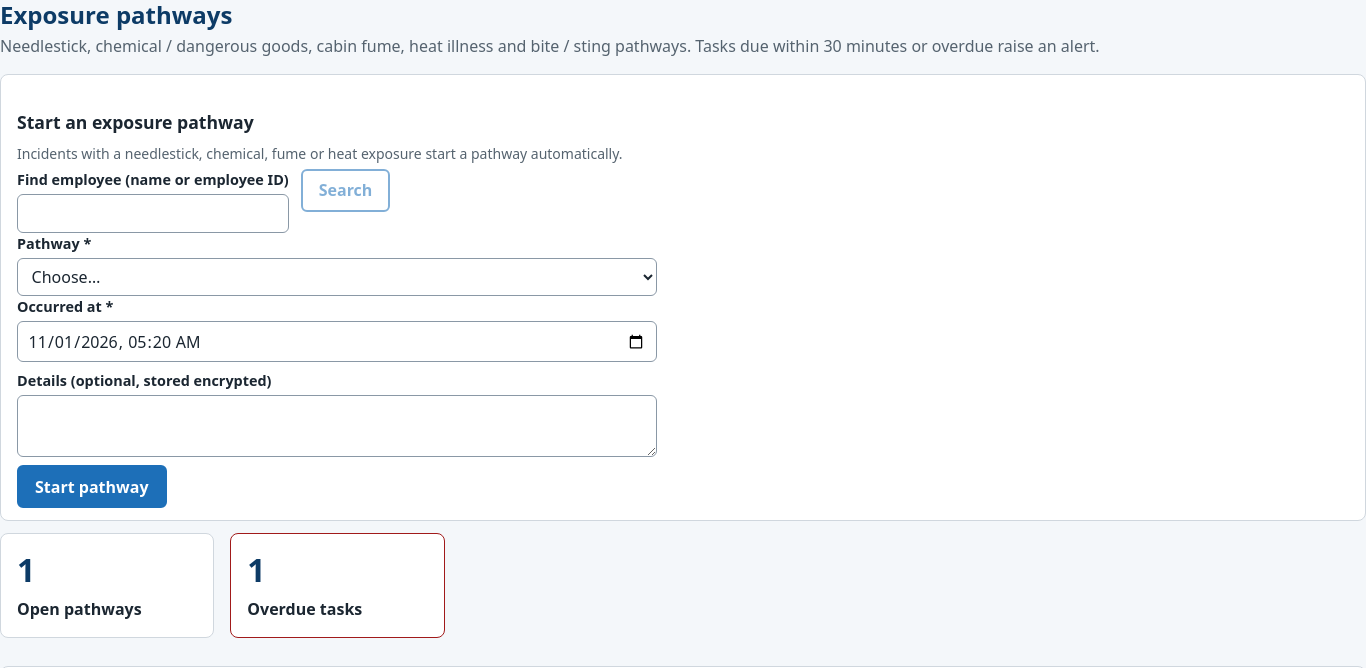
Exposures › list: overdue rows highlighted and counted; chemical pathway requires a chemical
Expected: the 2nd text "1" is shown, [247,548,266,591]
Select "Chemical dgr" in the dropdown labelled "Pathway *" at (337, 277), box [17,258,657,296]
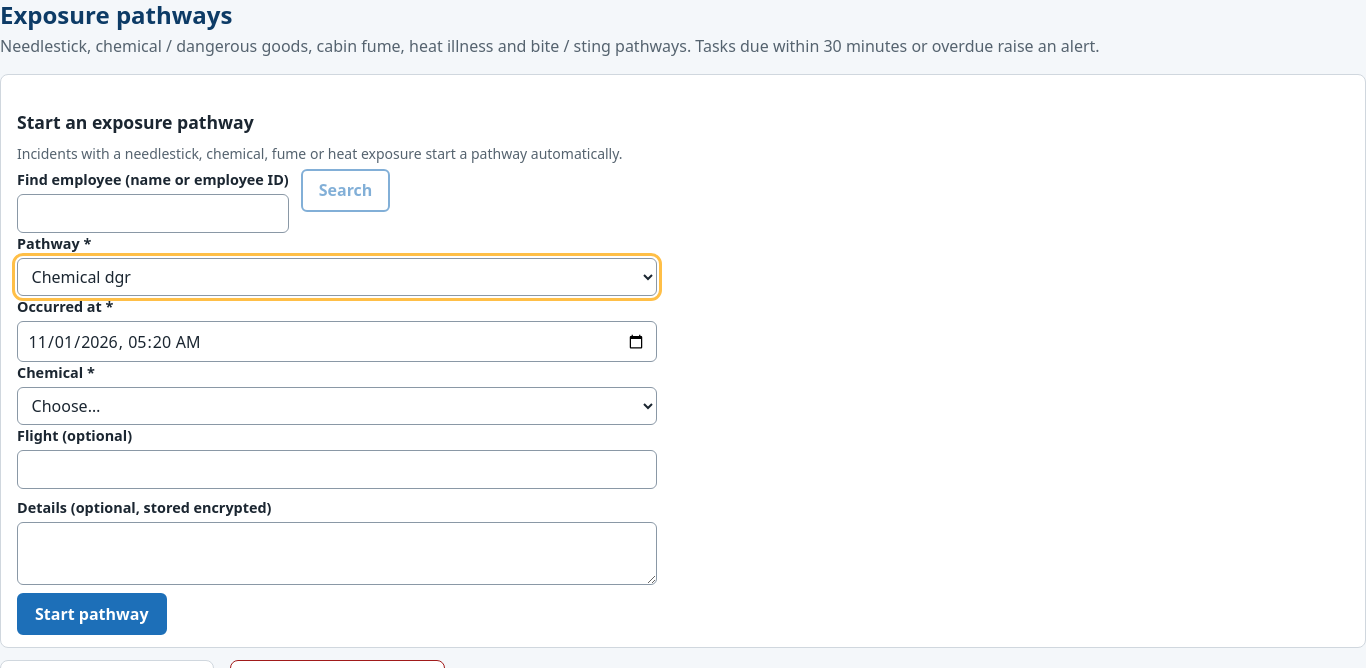
Click the button "Start pathway" at (92, 614), box [17,593,166,635]
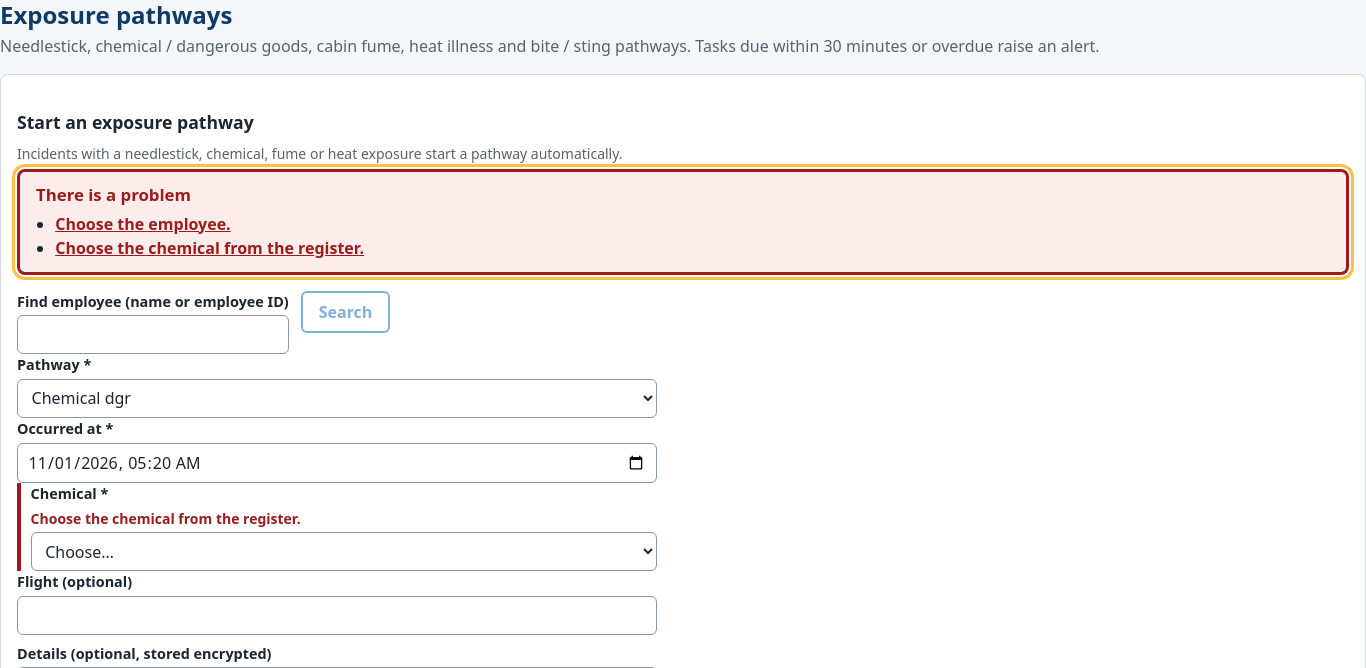
Expected: the link "Choose the employee." is shown, [55,212,231,234]
Expected: the link "Choose the chemical from the register." is shown, [55,236,364,258]
